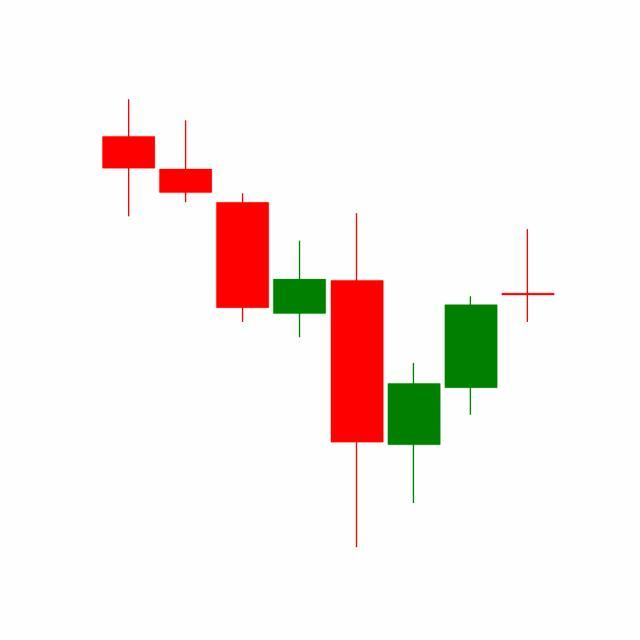Hikkake Pattern: (214, 189, 501, 549)
